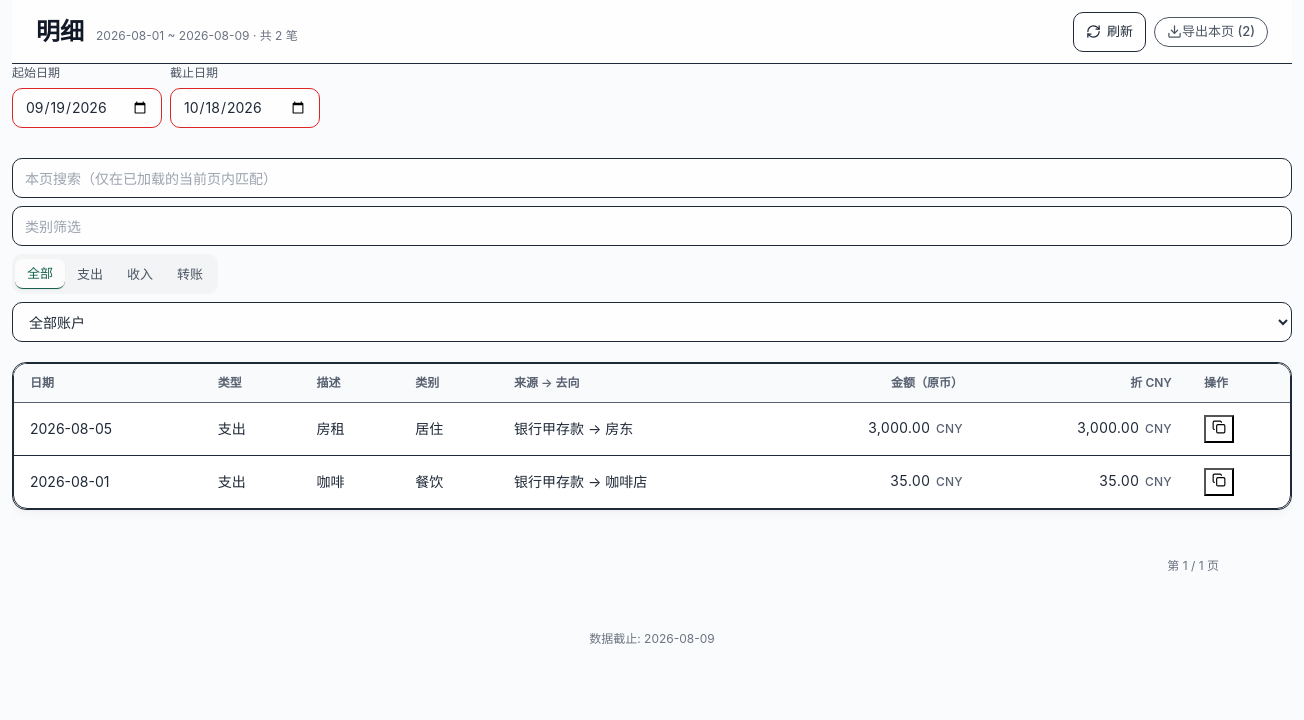
Test case: TransactionsPage — CSV 导出本页 › 按钮如实标注本页条数，点击触发下载且文件名含区间与条数
Expected: the table named "交易明细" is shown, [14,364,1290,508]
Click the button "导出本页 (2)" at (1211,32), box [1154,16,1268,46]
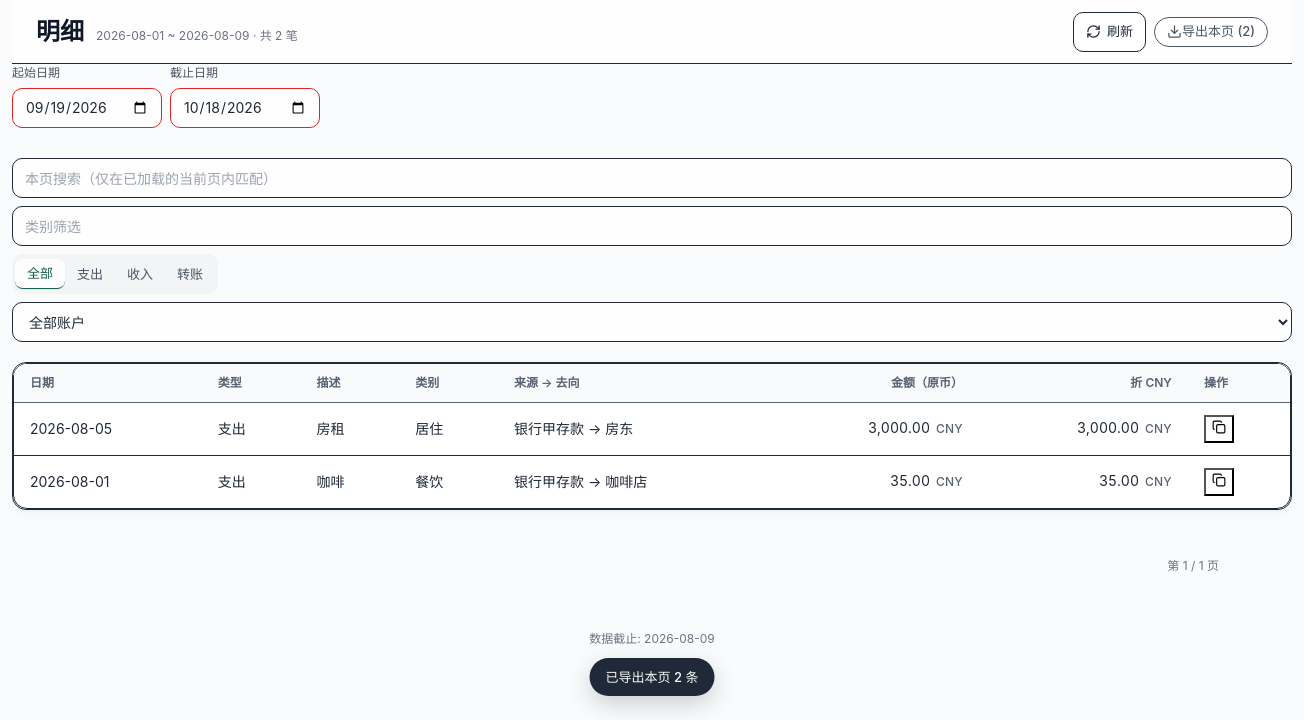
Now the text "已导出本页 2 条" is shown, box [590,658,714,696]
